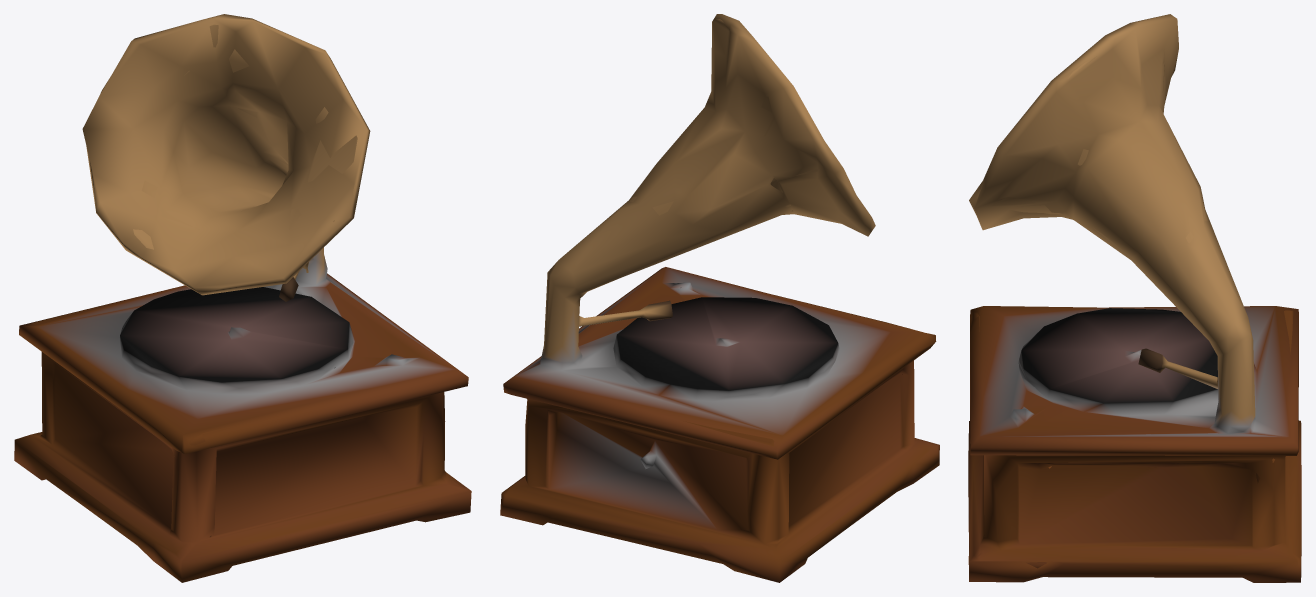
Rendered from gen3d-gramophone-lod1.glb.
The picture shows the model from 3 angles, left to right: view 1: azimuth 30°, elevation 25°; view 2: azimuth 150°, elevation 25°; view 3: azimuth 270°, elevation 25°; orthographic projection. The views are drawn at different scales.
Parts seen in each view (by area): view 1: part_0; view 2: part_0; view 3: part_0.
Boxes of the visible parts, box(x1,y1,x2,y2) form: part_0: box(14, 14, 471, 582); part_0: box(500, 14, 939, 582); part_0: box(968, 14, 1301, 582).
Bounding box in the file's own units: 0.6752 × 1.03 × 0.6575.
